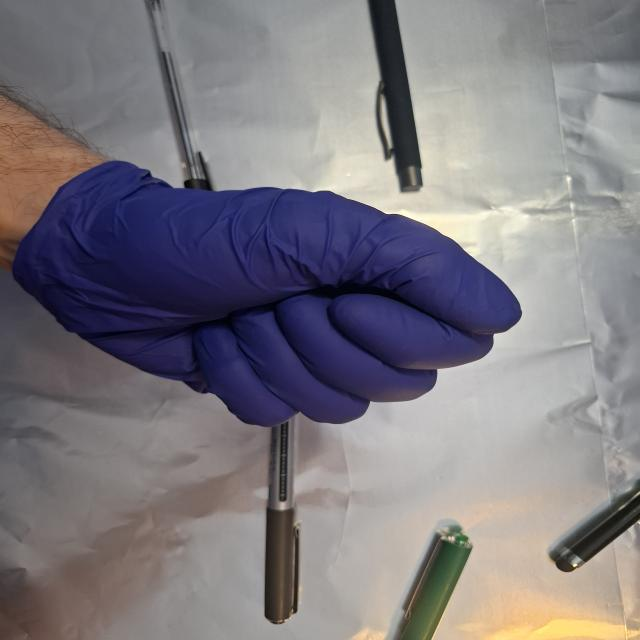glove_on: (17, 158, 528, 432)
